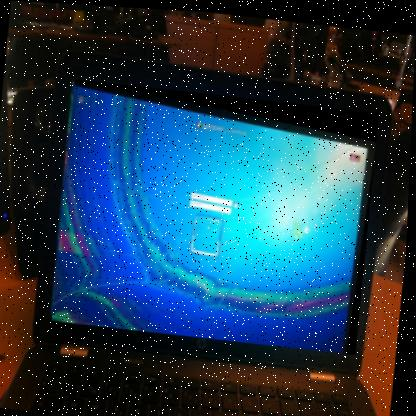fade: (53, 77, 380, 352)
